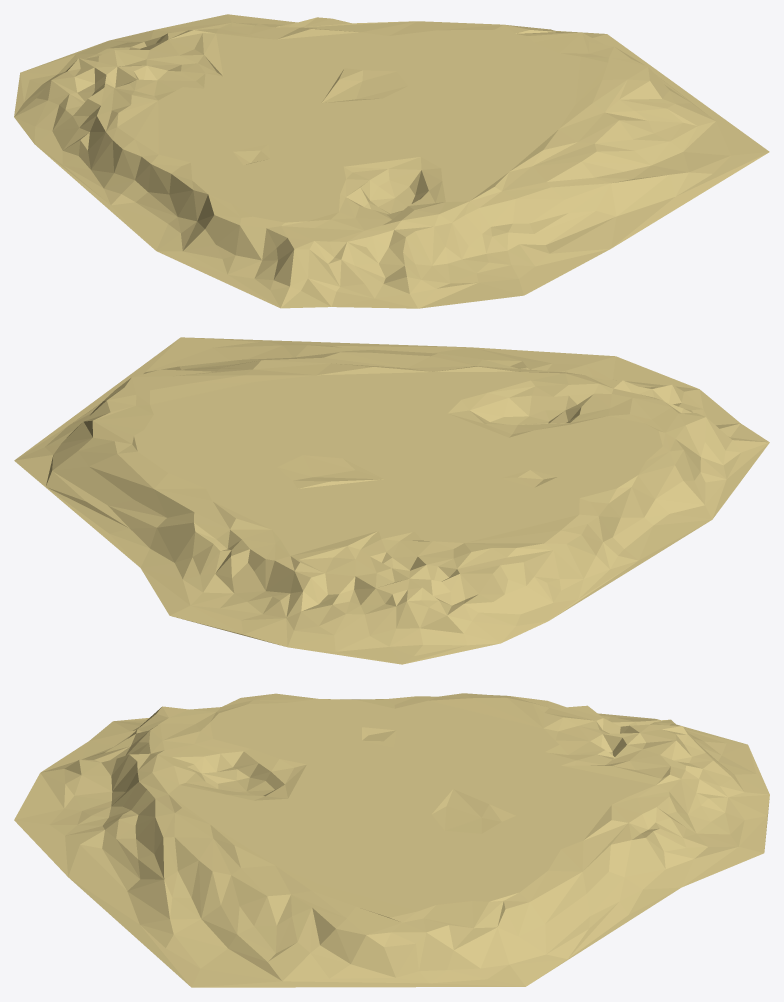
Rendered from TerrainSand_9.fbx.
3 views of the same model, one above another, from view 1: azimuth 30°, elevation 25°; view 2: azimuth 150°, elevation 25°; view 3: azimuth 270°, elevation 25° (orthographic). The views are drawn at different scales.
Parts seen in each view (by area): view 1: TerrainSand_9; view 2: TerrainSand_9; view 3: TerrainSand_9.
Boxes of the visible parts, bbox=[...] form: TerrainSand_9: bbox=[14, 14, 769, 308]; TerrainSand_9: bbox=[14, 337, 769, 664]; TerrainSand_9: bbox=[14, 693, 769, 987].
Size of the model in its own units: 1644 by 105 by 1849.
